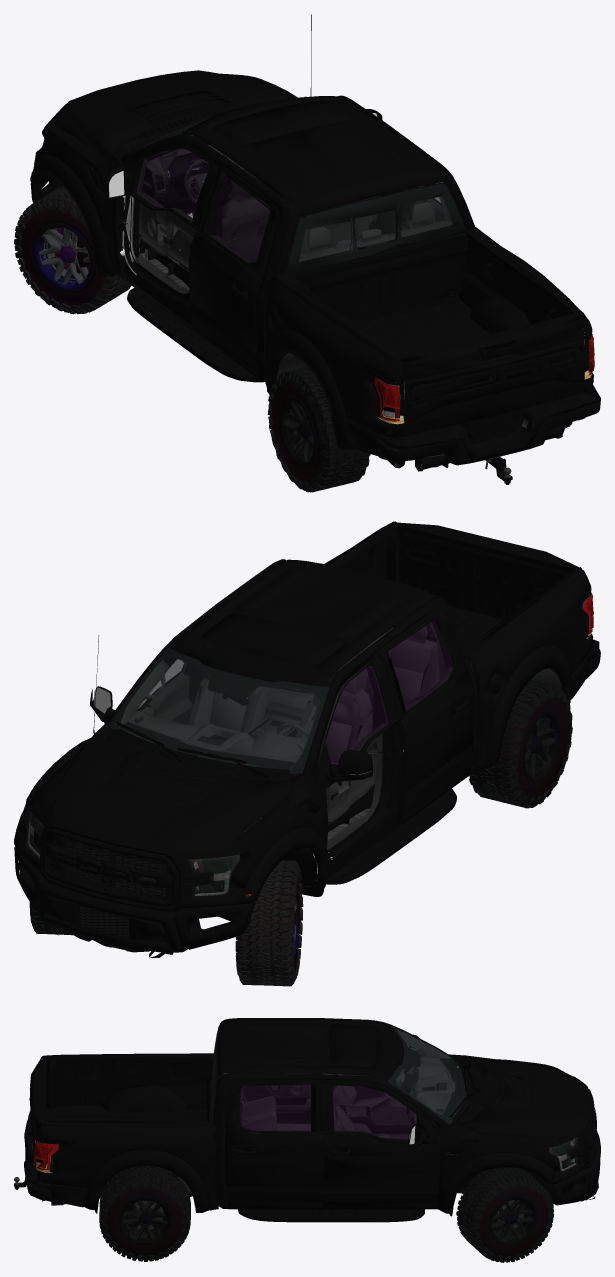
File: raptor.glb
The picture shows the model from 3 angles, top to bottom: view 1: azimuth 30°, elevation 25°; view 2: azimuth 150°, elevation 25°; view 3: azimuth 270°, elevation 25°; orthographic projection. The views are drawn at different scales.
Visible parts, largest first — view 1: Object_56, Object_54, Object_12, Object_42, Object_39, Object_142, Object_14, Object_364, Object_8, Object_58, Object_87, Object_393 (+2 smaller); view 2: Object_56, Object_54, Object_12, Object_142, Object_39, Object_42, Object_87, Object_364, Object_8, Object_14, Object_201, Object_84 (+4 smaller); view 3: Object_56, Object_54, Object_12, Object_47, Object_39, Object_142, Object_87, Object_364, Object_201, Object_14.
Boxes of the visible parts, x1,y1,x2,y2 form: Object_56: (30,70,600,465); Object_54: (33,14,599,484); Object_12: (136,117,465,273); Object_42: (14,186,131,314); Object_39: (267,366,565,492); Object_142: (143,135,511,477); Object_14: (132,148,210,293); Object_364: (127,288,264,382); Object_8: (104,145,218,293); Object_58: (410,348,580,401); Object_87: (151,151,572,468); Object_393: (375,335,594,420); Object_56: (14,549,600,952); Object_54: (15,521,599,957); Object_12: (26,618,452,897); Object_142: (119,617,447,848); Object_39: (469,679,572,808); Object_42: (235,860,303,986); Object_87: (31,635,590,887); Object_364: (326,788,456,884); Object_8: (316,656,403,859); Object_14: (318,665,388,849); Object_201: (123,630,452,747); Object_84: (65,832,165,937); Object_56: (24,1018,600,1216); Object_54: (14,1019,600,1207); Object_12: (211,1025,577,1171); Object_47: (456,1167,554,1262); Object_39: (99,1166,190,1261); Object_142: (14,1030,458,1184); Object_87: (32,1066,562,1207); Object_364: (238,1209,424,1222); Object_201: (241,1073,409,1139); Object_14: (346,1051,426,1102).
Size of what is drawn, in the model's own units: 2.55 by 2.25 by 6.11.
40 materials, 23 textured.
